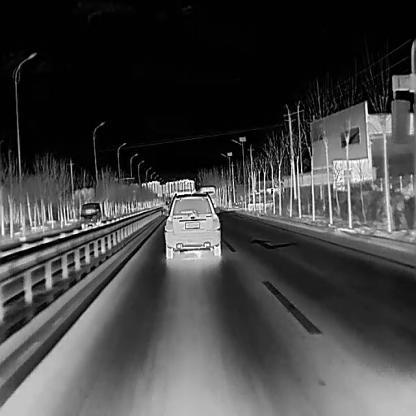car: (164, 190, 221, 259), (80, 201, 100, 228), (198, 185, 216, 210)
